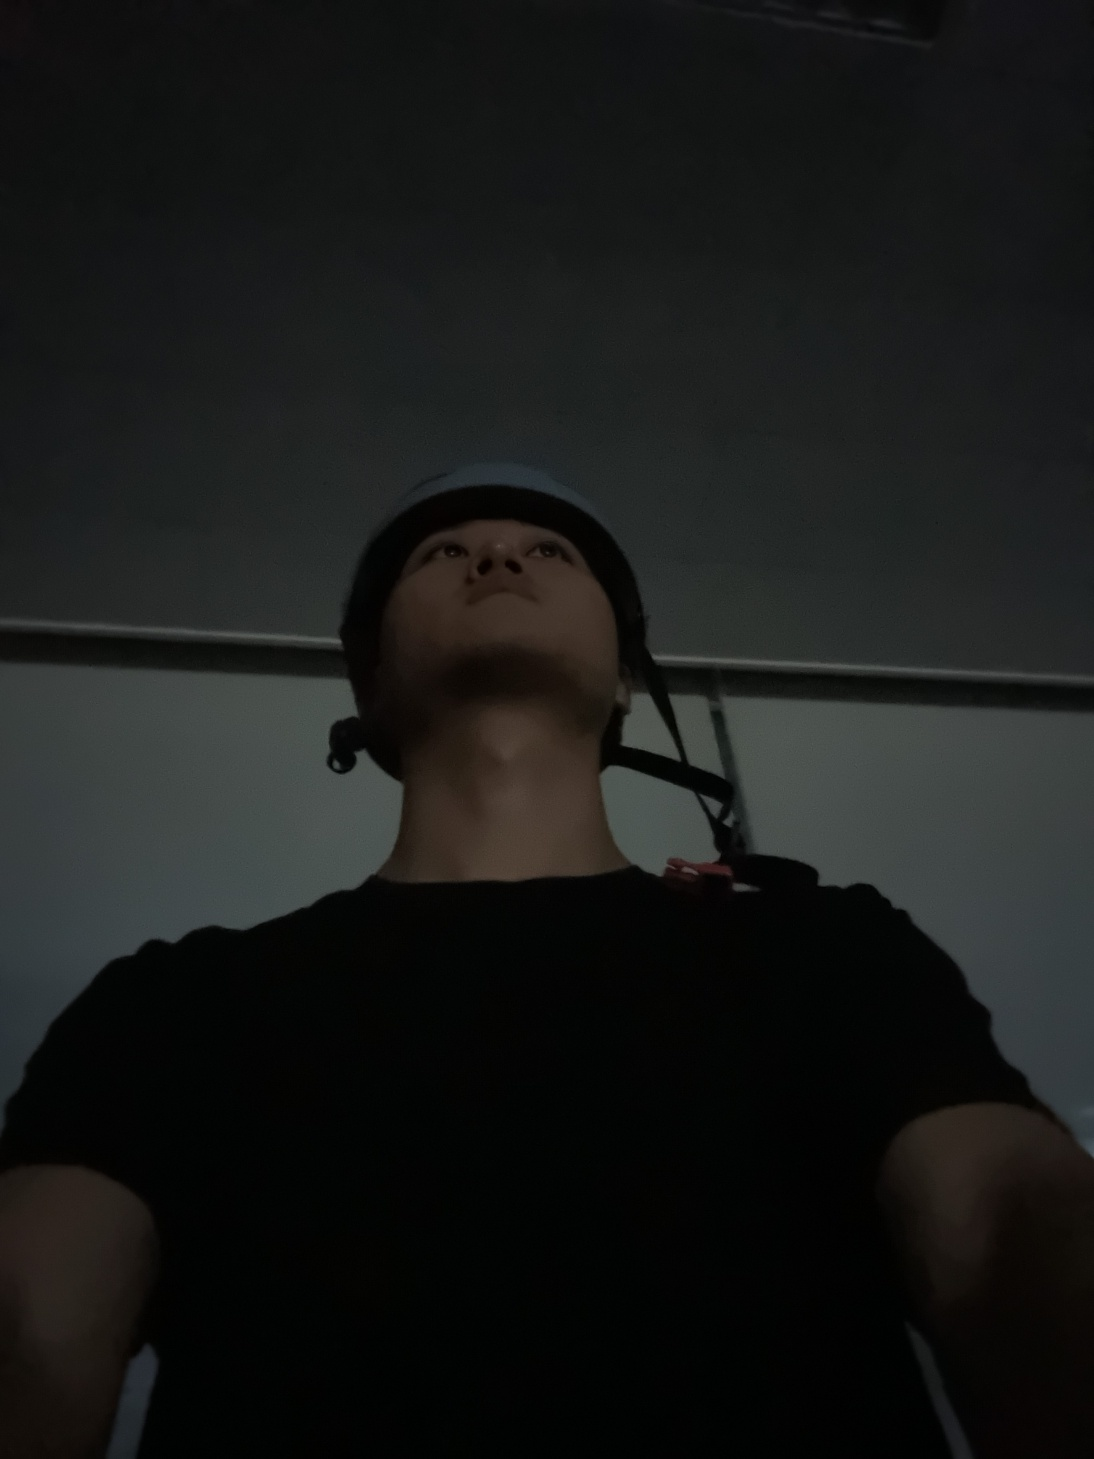Helmet: (265, 427, 749, 815)
